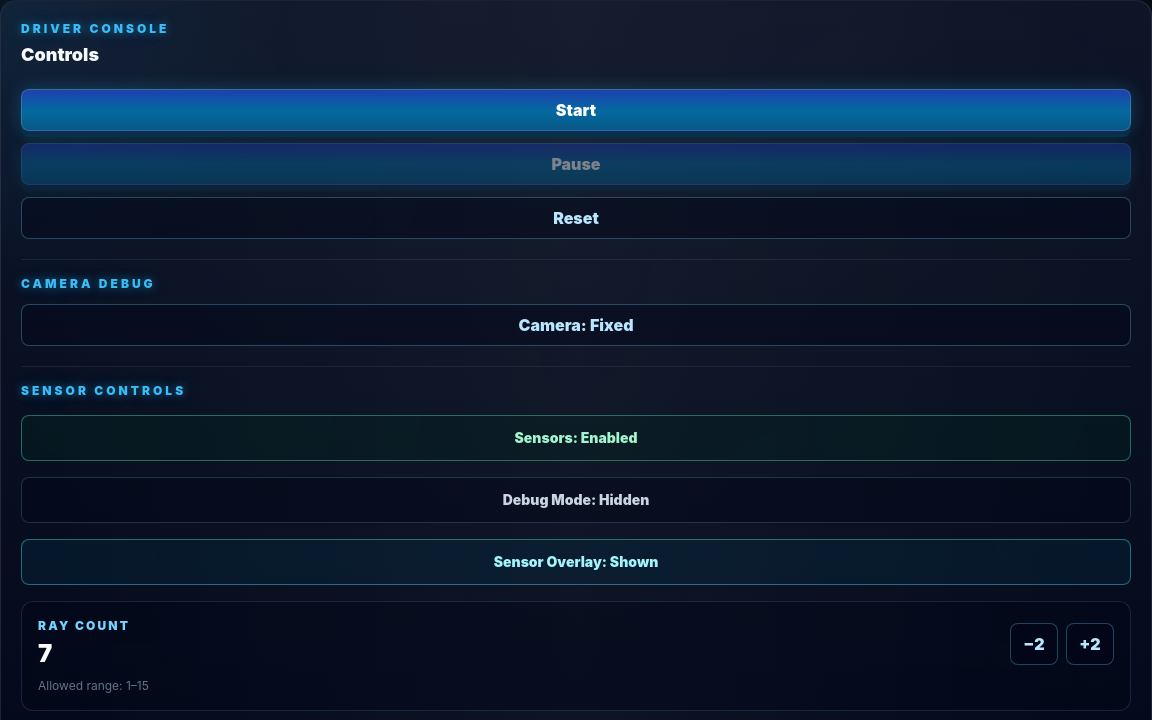
Test case: ControlsPanelContainer › updates button states from Zustand status
Expected: the button "Pause" is disabled, [21,143,1131,185]
Click the button "Start" at (576, 110), box [21,89,1131,131]
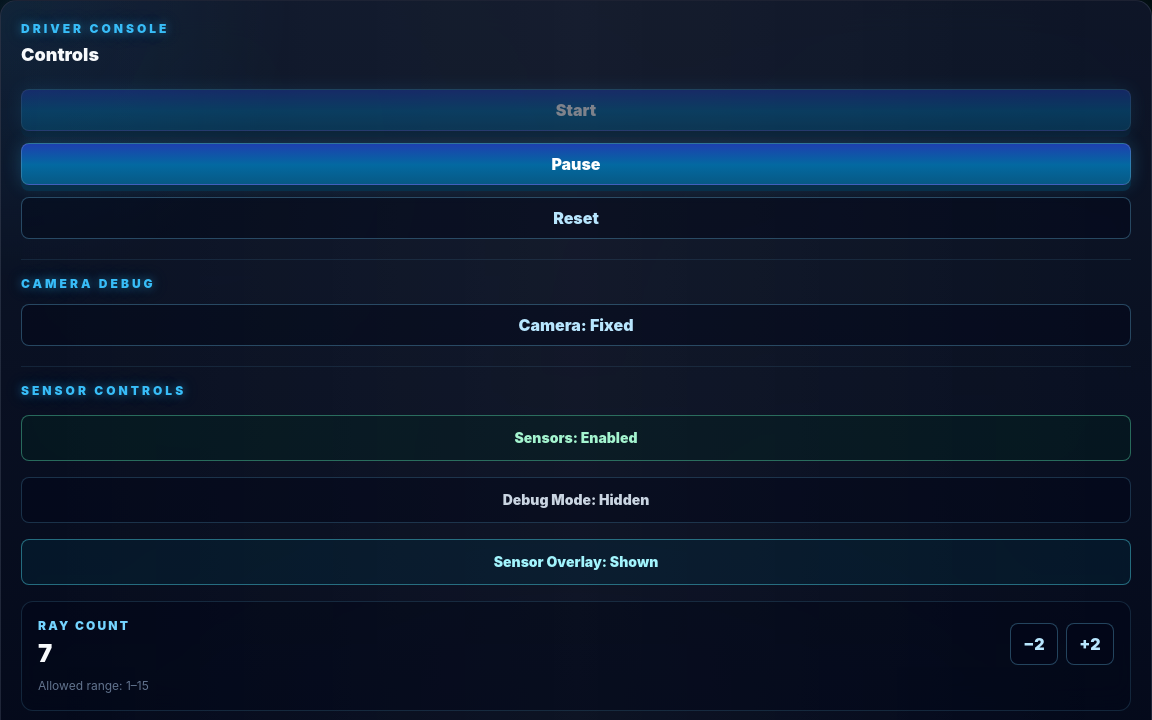
Expected: the button "Start" is disabled, [21,89,1131,131]
Expected: the button "Pause" is enabled, [21,143,1131,185]
